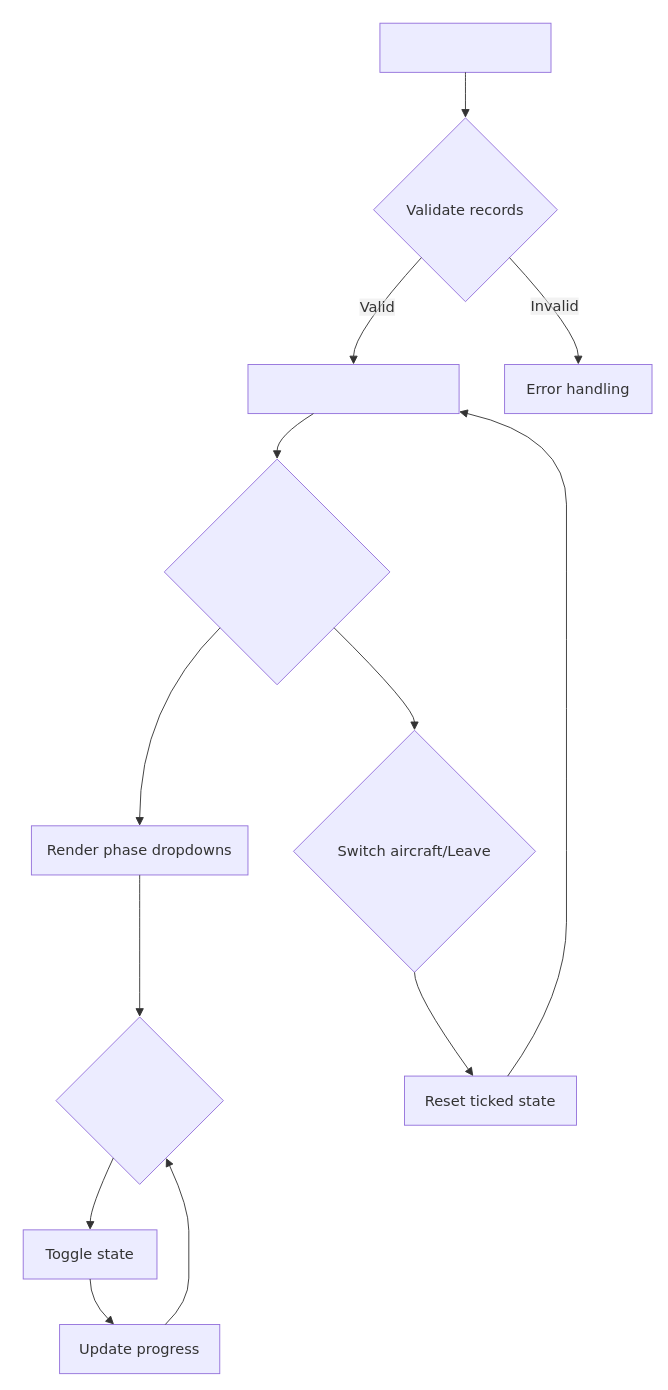
Some shapes in this 668 by 1390 pixel diagram are drawn without their labels. The centre of each missing label's shape, as x and y in pixels:
Display aircraft selector: point 353,389
Load aircraft.json: point 465,47
User selects aircraft: point 276,571
User taps item: point 139,1100
